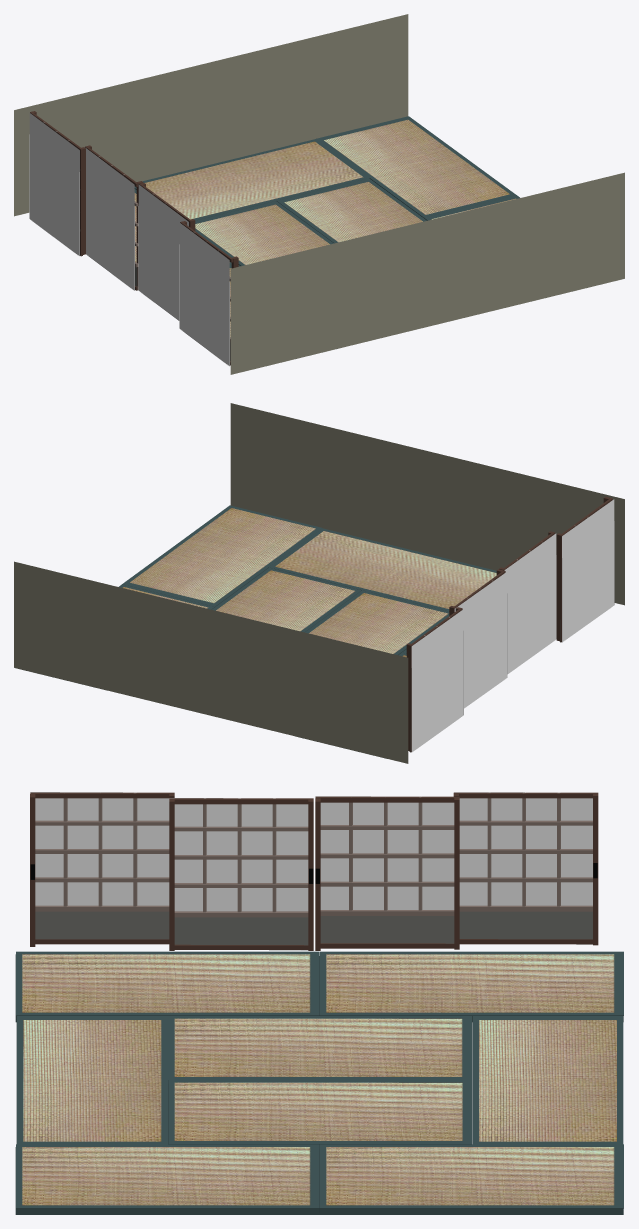
3 renders of one model, top to bottom at view 1: azimuth 30°, elevation 25°; view 2: azimuth 150°, elevation 25°; view 3: azimuth 270°, elevation 25°, orthographic. The views are drawn at different scales.
Parts seen in each view (by area): view 1: 平面.001, 平面, 立方体.052, 立方体.048, 紙.002, 紙.004, 立方体.050, 紙.003, 立方体.049, 紙.001, 立方体.015; view 2: 平面, 平面.001, 立方体.051, 立方体.047, 紙.004, 紙.002, 紙.001, 立方体.050, 立方体.049, 紙.003, 立方体.034; view 3: 立方体.051, 立方体.052, 立方体.045, 立方体.046, 立方体.050, 立方体.048, 立方体.047, 立方体.049, 紙.004, 紙.001, 紙.003, 紙.002 (+34 smaller).
Part boxes in pixels (x1,y1,x2,y2): 平面.001: [230, 172, 624, 374]; 平面: [14, 14, 408, 216]; 立方体.052: [316, 116, 515, 217]; 立方体.048: [134, 139, 369, 220]; 紙.002: [29, 113, 79, 256]; 紙.004: [179, 223, 229, 366]; 立方体.050: [277, 178, 426, 243]; 紙.003: [84, 147, 134, 290]; 立方体.049: [195, 201, 333, 265]; 紙.001: [138, 184, 188, 320]; 立方体.015: [79, 147, 85, 255]; 平面: [14, 561, 408, 763]; 平面.001: [230, 403, 624, 605]; 立方体.051: [122, 505, 322, 606]; 立方体.047: [268, 528, 496, 611]; 紙.004: [562, 499, 614, 642]; 紙.002: [411, 609, 463, 752]; 紙.001: [504, 533, 556, 674]; 立方体.050: [212, 567, 361, 632]; 立方体.049: [305, 590, 449, 655]; 紙.003: [454, 572, 507, 708]; 立方体.034: [556, 533, 563, 641]; 立方体.051: [15, 1144, 319, 1214]; 立方体.052: [319, 1144, 623, 1214]; 立方体.045: [15, 951, 319, 1022]; 立方体.046: [319, 951, 623, 1021]; 立方体.050: [168, 1080, 471, 1148]; 立方体.048: [472, 1016, 623, 1144]; 立方体.047: [16, 1016, 167, 1144]; 立方体.049: [168, 1016, 471, 1083]; 紙.004: [30, 792, 169, 905]; 紙.001: [169, 798, 308, 911]; 紙.003: [315, 796, 454, 909]; 紙.002: [454, 792, 592, 905].
Bounding box in the file's own units: 778 × 208 × 739.
Materials: 8 (8 with a texture image).
